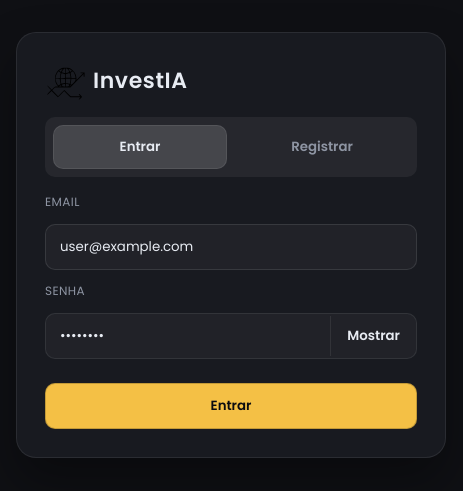
Login page › shows error message when login fails
Click the button "Entrar" below "Senha" at (231, 406), box [45,383,417,429]
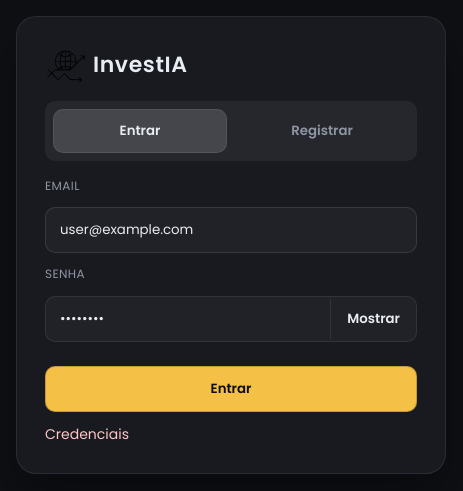
Result: the text "Credenciais" is shown at [45,424,129,444]
